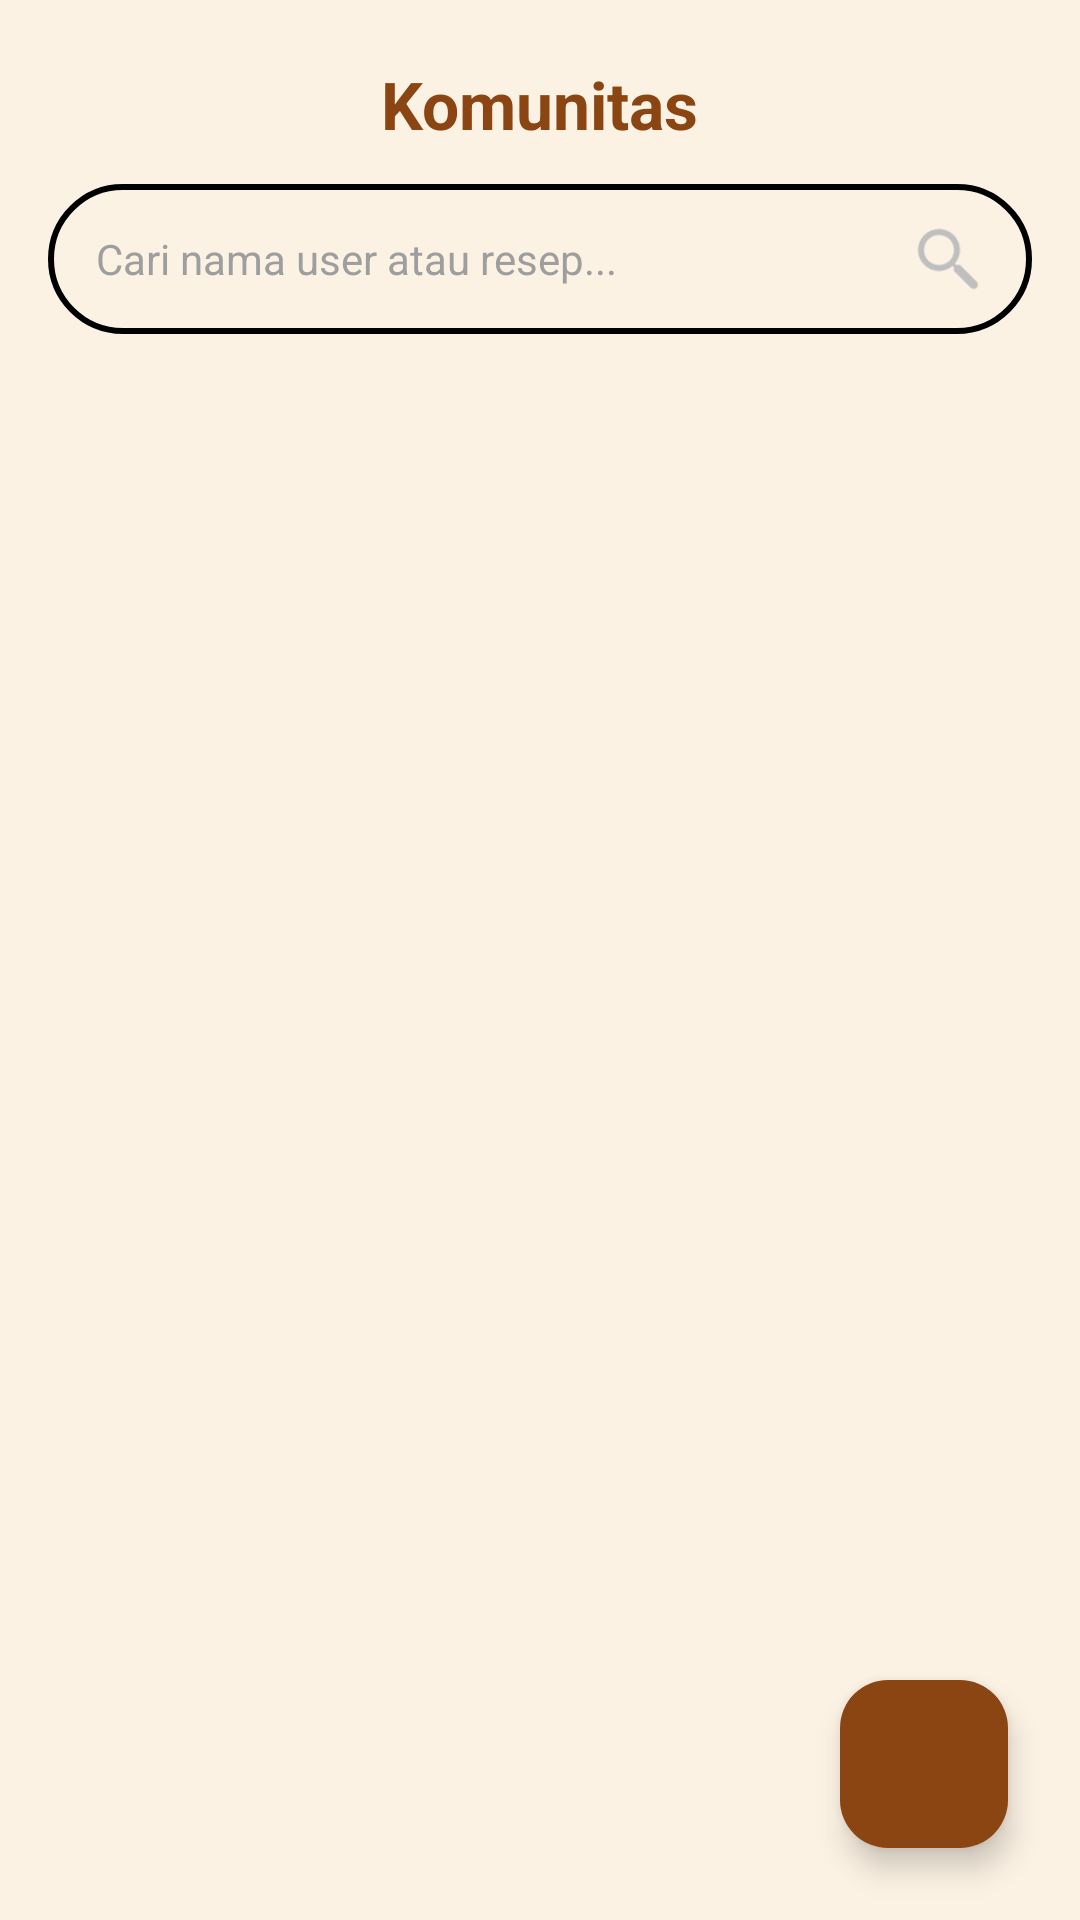

Screen size 1080*1920. Icon name, then its box in pixels as bbox=[x1, y1, x2, y2]:
search: bbox=[918, 229, 978, 289]
